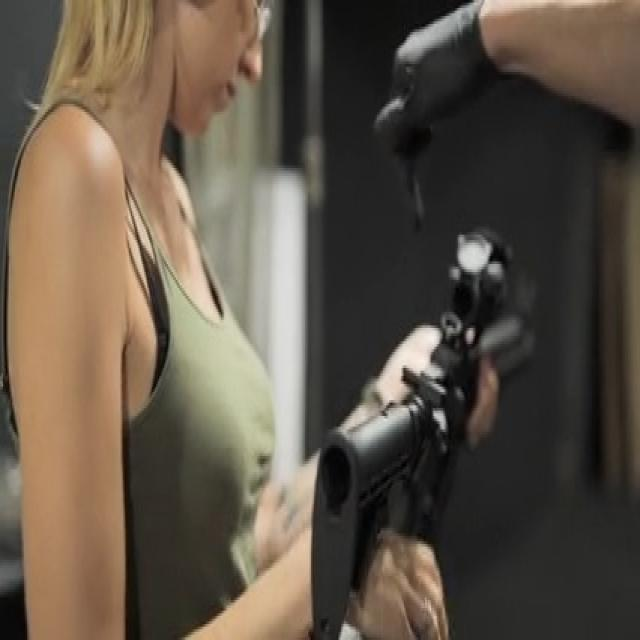Gun_Holder: (300, 193, 581, 640)
Person: (0, 0, 440, 632)
